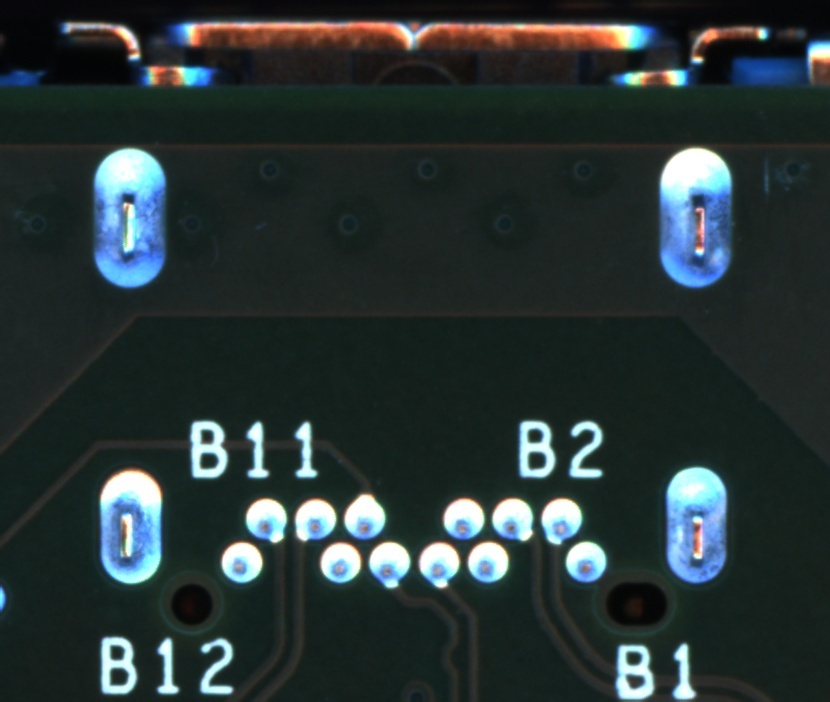SOLDER: (439, 495, 486, 543), (366, 541, 413, 589), (414, 541, 461, 589), (464, 540, 511, 587), (291, 497, 338, 544), (537, 496, 583, 544), (243, 496, 289, 544), (219, 540, 265, 587), (318, 541, 364, 588), (562, 538, 608, 585), (489, 495, 535, 542), (340, 493, 386, 540)
SOLDER2: (82, 140, 178, 296), (647, 140, 743, 296), (647, 445, 743, 601), (84, 448, 180, 604)
